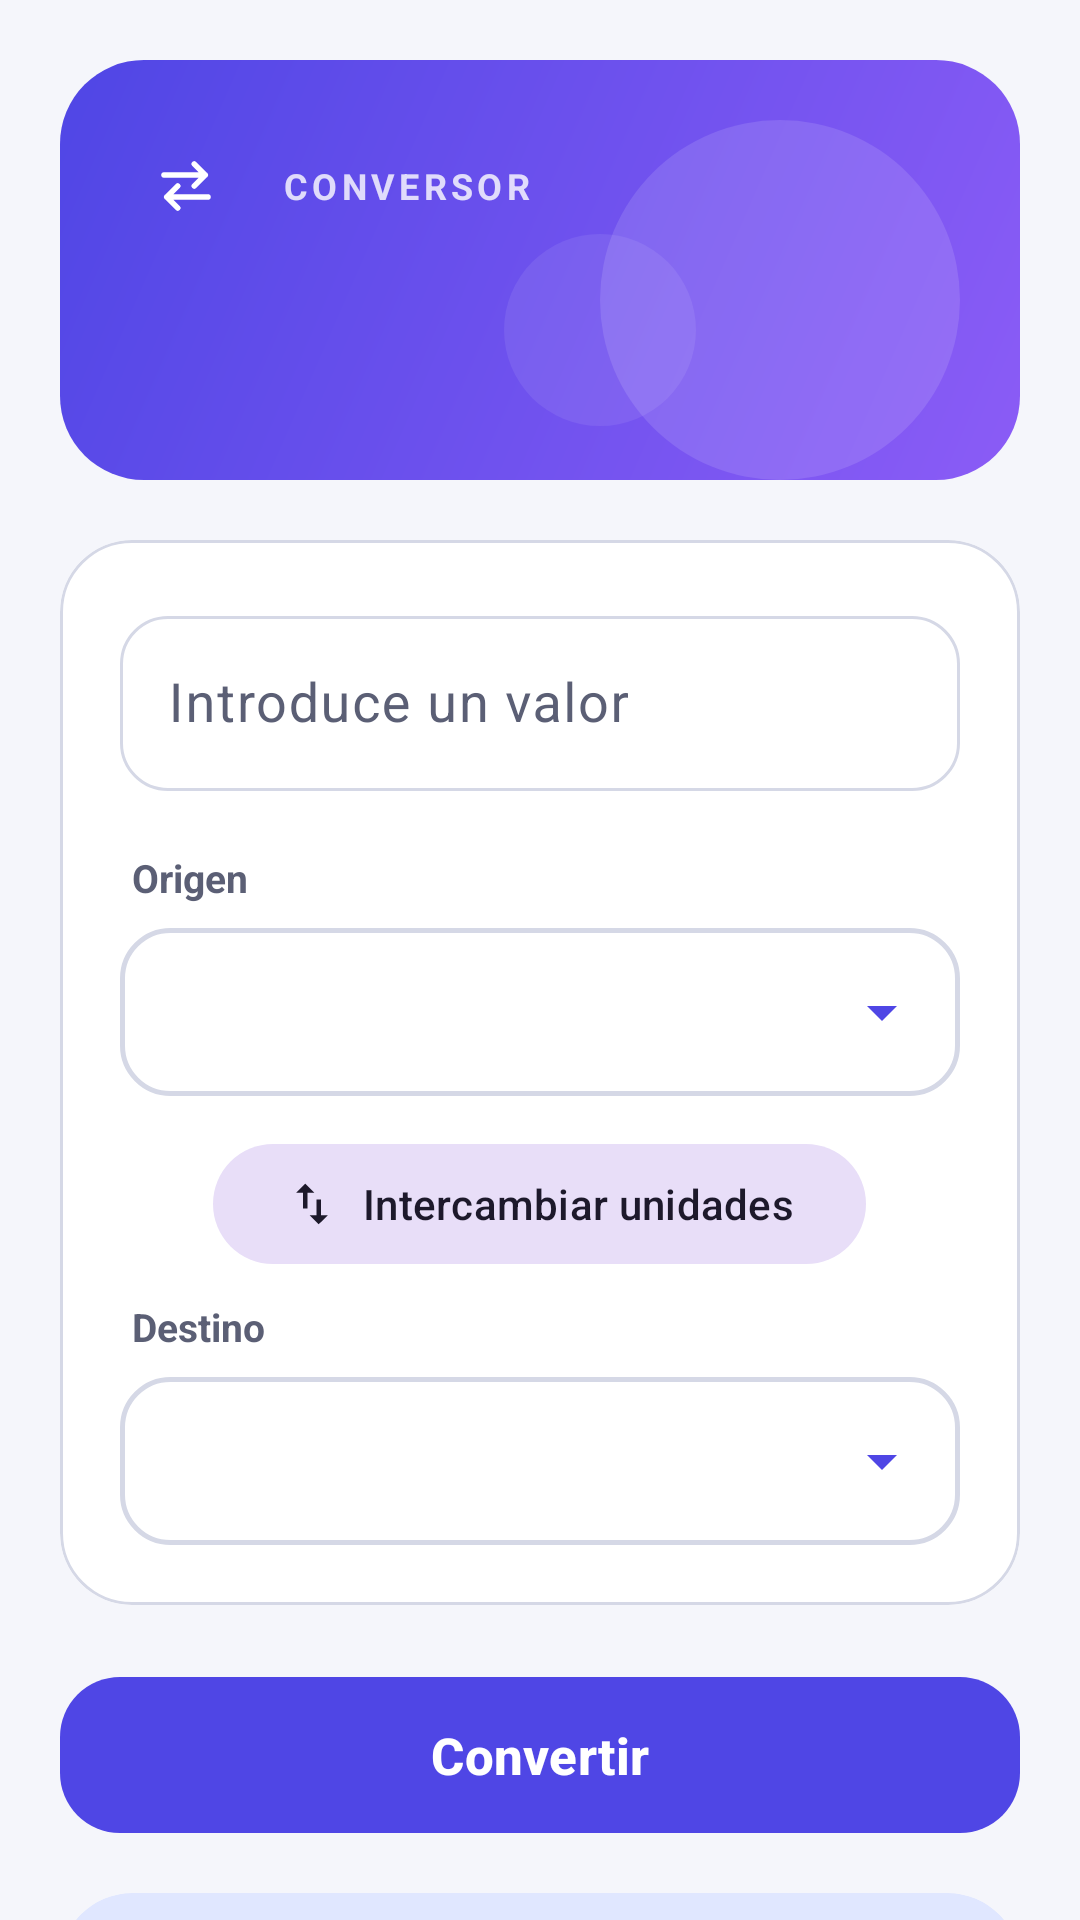

Screen size 1080*1920. Icon name, then its box in pixels as [x1,y1,x2,y2]:
swap: [161,161,211,211]
